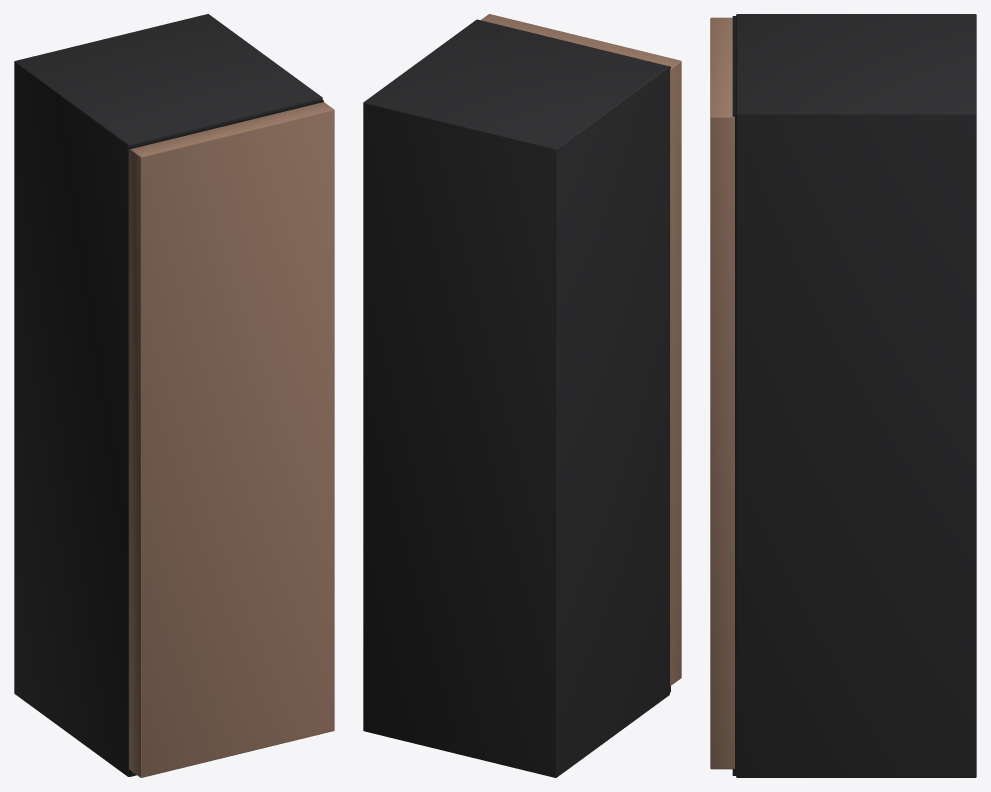
The picture shows the model from 3 angles, left to right: view 1: azimuth 30°, elevation 25°; view 2: azimuth 150°, elevation 25°; view 3: azimuth 270°, elevation 25°; orthographic projection. The views are drawn at different scales.
Parts seen in each view (by area): view 1: Z321GC3CS; view 2: Z321GC3CS; view 3: Z321GC3CS.
Part boxes in pixels (x1,y1,x2,y2): Z321GC3CS: (14,14,334,777); Z321GC3CS: (363,14,681,777); Z321GC3CS: (710,14,976,777).
Bounding box in the file's own units: 0.595 × 1.86 × 0.67.
